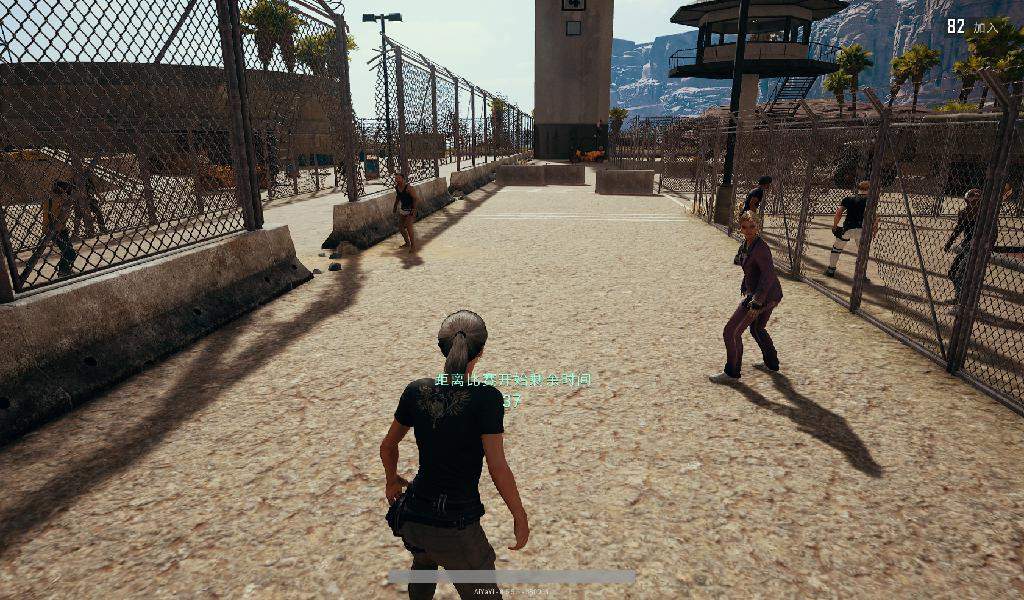Target Person: (379, 310, 534, 600), (710, 212, 786, 386), (942, 186, 998, 314), (823, 180, 879, 284), (40, 179, 86, 281), (733, 174, 775, 271), (390, 170, 419, 255)
